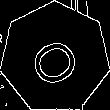O_NE: (23, 27, 87, 89)
